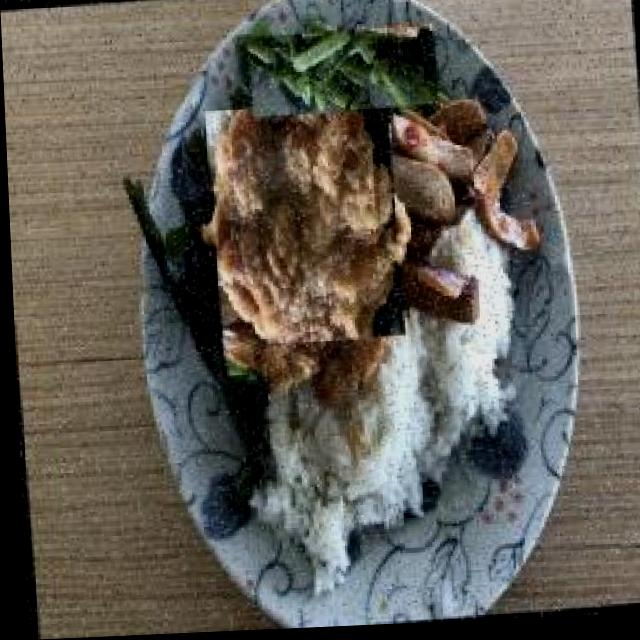fried_chicken: (202, 101, 405, 386)
rice: (249, 333, 494, 542)
water_spinach: (246, 27, 438, 121)
